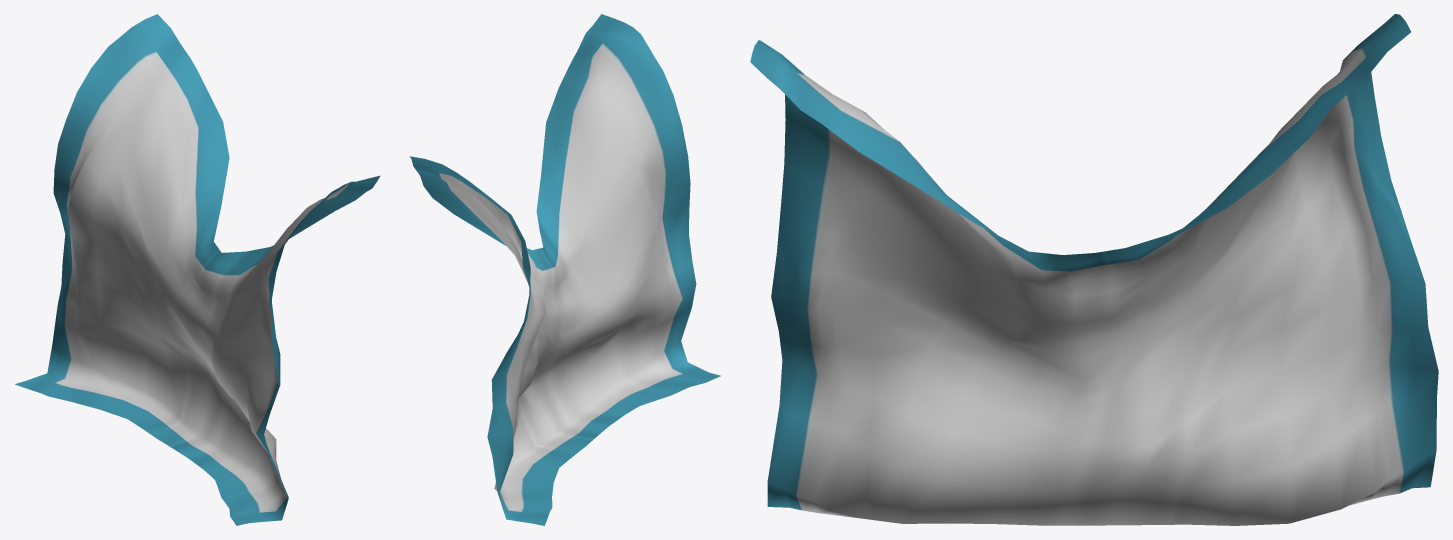
The model's file is cloth_02_OnCathMalePatient.fbx.
The picture shows the model from 3 angles, left to right: view 1: azimuth 30°, elevation 25°; view 2: azimuth 150°, elevation 25°; view 3: azimuth 270°, elevation 25°; orthographic projection. The views are drawn at different scales.
Parts seen in each view (by area): view 1: cloth_02_OnCathMalePatient; view 2: cloth_02_OnCathMalePatient; view 3: cloth_02_OnCathMalePatient.
Part boxes in pixels (x1,y1,x2,y2): cloth_02_OnCathMalePatient: (15,14,379,525); cloth_02_OnCathMalePatient: (410,14,720,525); cloth_02_OnCathMalePatient: (750,14,1438,525).
Bounding box in the file's own units: 0.2006 × 0.3969 × 0.4621.
